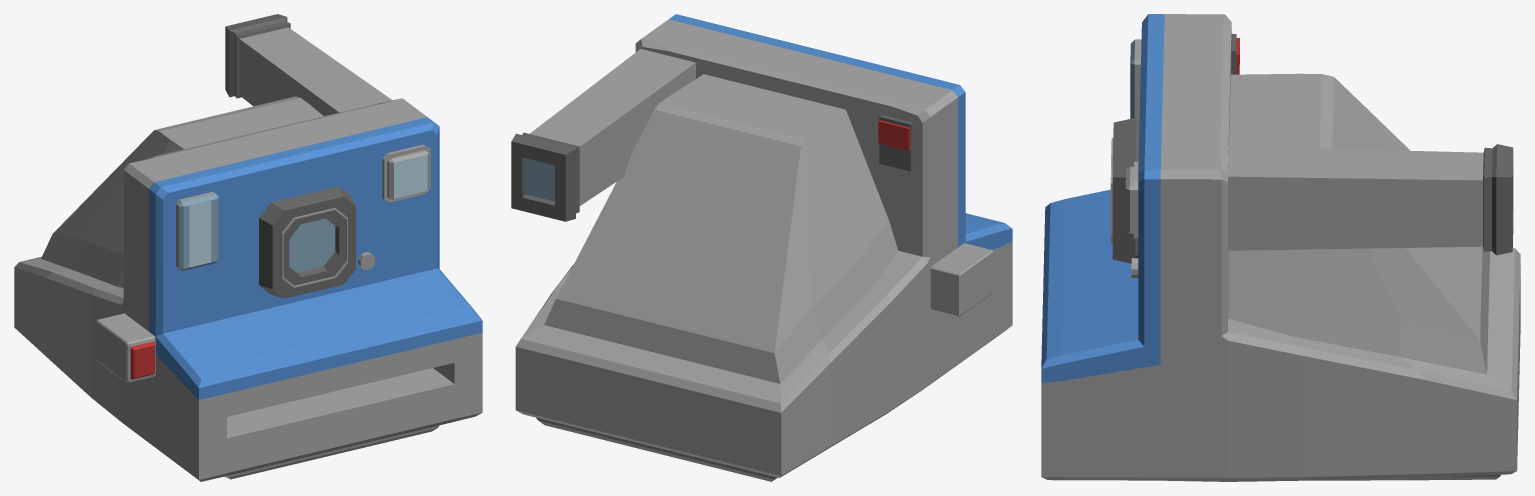
The model's file is Camera_Instant_1.fbx.
3 views of the same model, side by side, from view 1: azimuth 30°, elevation 25°; view 2: azimuth 150°, elevation 25°; view 3: azimuth 270°, elevation 25° (orthographic). The views are drawn at different scales.
Parts seen in each view (by area): view 1: Camera_Instant_1; view 2: Camera_Instant_1; view 3: Camera_Instant_1.
Boxes of the visible parts, box(x1,y1,x2,y2) form: Camera_Instant_1: box(14, 14, 482, 481); Camera_Instant_1: box(511, 14, 1012, 481); Camera_Instant_1: box(1041, 14, 1520, 481).
Bounding box in the file's own units: 19.17 × 21.8 × 16.25.
